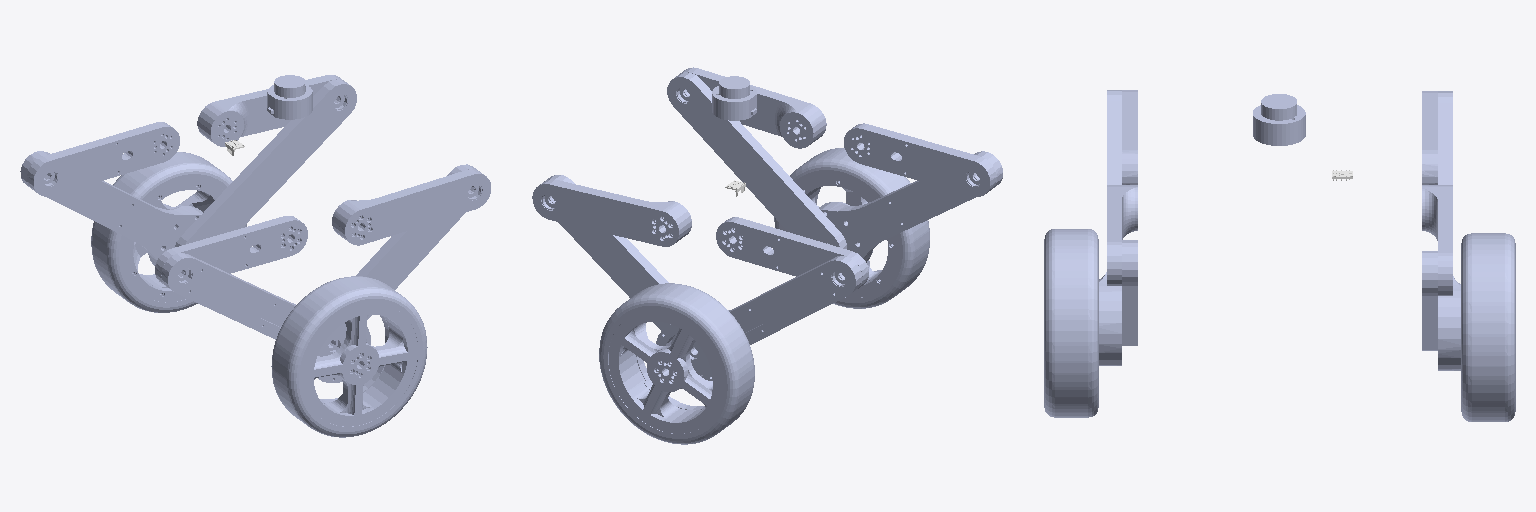
robot.urdf — wheel_legged_urdf_pkg:
<?xml version="1.0" encoding="utf-8"?>
<!-- This URDF was automatically created by SolidWorks to URDF Exporter! Originally created by [author] ([email redacted]) 
     Commit Version: 1.6.0-1-g15f4949  Build Version: 1.6.7594.29634
     For more information, please see http://wiki.ros.org/sw_urdf_exporter -->
<robot
  name="wheel_legged_urdf_pkg">
  <link
    name="base_link">
    <inertial>
      <origin
        xyz="0.00121782667412224 -0.000210352203166787 -2.21299226362964E-05"
        rpy="0 0 0" />
      <mass
        value="2.00185606218299" />
      <inertia
        ixx="0.00494176488313629"
        ixy="2.02076436576181E-06"
        ixz="-1.34594201707221E-05"
        iyy="0.00564170400699066"
        iyz="-3.68666172302085E-07"
        izz="0.00881398606635347" />
    </inertial>
    <visual>
      <origin
        xyz="0 0 0"
        rpy="0 0 0" />
      <geometry>
        <mesh
          filename="package://wheel_legged_urdf_pkg/meshes/base_link.STL" />
      </geometry>
      <material
        name="">
        <color
          rgba="0.792156862745098 0.819607843137255 0.933333333333333 1" />
      </material>
    </visual>
    <collision>
      <origin
        xyz="0 0 0"
        rpy="0 0 0" />
      <geometry>
        <mesh
          filename="package://wheel_legged_urdf_pkg/meshes/base_link.STL" />
      </geometry>
    </collision>
  </link>
  <link
    name="left_front_motor_link">
    <inertial>
      <origin
        xyz="0.0624436684240075 0.000619326059130704 0.0200324549537225"
        rpy="0 0 0" />
      <mass
        value="0.141618184762676" />
      <inertia
        ixx="3.01866212630707E-05"
        ixy="-4.06501419007613E-06"
        ixz="-2.12212302875267E-05"
        iyy="0.000434045739664063"
        iyz="-2.13539578979558E-07"
        izz="0.000450595261060971" />
    </inertial>
    <visual>
      <origin
        xyz="0 0 0"
        rpy="0 0 0" />
      <geometry>
        <mesh
          filename="package://wheel_legged_urdf_pkg/meshes/left_front_motor_link.STL" />
      </geometry>
      <material
        name="">
        <color
          rgba="0.796078431372549 0.823529411764706 0.937254901960784 1" />
      </material>
    </visual>
    <collision>
      <origin
        xyz="0 0 0"
        rpy="0 0 0" />
      <geometry>
        <mesh
          filename="package://wheel_legged_urdf_pkg/meshes/left_front_motor_link.STL" />
      </geometry>
    </collision>
  </link>
  <joint
    name="left_front_joint_link"
    type="revolute">
    <origin
      xyz="0.042498 0.1395 0.00013155"
      rpy="-1.5708 -0.0033107 0" />
    <parent
      link="base_link" />
    <child
      link="left_front_motor_link" />
    <axis
      xyz="0 0 -1" />
    <limit
      lower="-3.14"
      upper="3.14"
      effort="111"
      velocity="111" />
  </joint>
  <link
    name="left_l1_link">
    <inertial>
      <origin
        xyz="-0.095105462450709 0.0731775307867209 -0.0163"
        rpy="0 0 0" />
      <mass
        value="0.177912779401" />
      <inertia
        ixx="0.000418025769227047"
        ixy="0.000499776117636955"
        ixz="2.64951433434358E-19"
        iyy="0.000683016195362116"
        iyz="-2.12822073937659E-19"
        izz="0.00109442528532047" />
    </inertial>
    <visual>
      <origin
        xyz="0 0 0"
        rpy="0 0 0" />
      <geometry>
        <mesh
          filename="package://wheel_legged_urdf_pkg/meshes/left_l1_link.STL" />
      </geometry>
      <material
        name="">
        <color
          rgba="0.796078431372549 0.823529411764706 0.937254901960784 1" />
      </material>
    </visual>
    <collision>
      <origin
        xyz="0 0 0"
        rpy="0 0 0" />
      <geometry>
        <mesh
          filename="package://wheel_legged_urdf_pkg/meshes/left_l1_link.STL" />
      </geometry>
    </collision>
  </link>
  <joint
    name="left_l1_joint_link"
    type="revolute">
    <origin
      xyz="0.14999 0.0015005 0.0238"
      rpy="0 0 0" />
    <parent
      link="left_front_motor_link" />
    <child
      link="left_l1_link" />
    <axis
      xyz="0 0 -1" />
    <limit
      lower="-3.14"
      upper="3.14"
      effort="111"
      velocity="111" />
  </joint>
  <link
    name="left_back_motor_link">
    <inertial>
      <origin
        xyz="-0.0749796058107964 0.0036928214728846 0.00747310925542913"
        rpy="0 0 0" />
      <mass
        value="0.115659747495916" />
      <inertia
        ixx="2.26464431379227E-05"
        ixy="1.47051792432662E-05"
        ixz="2.33204786093751E-07"
        iyy="0.000319765274780509"
        iyz="-1.1513773440399E-08"
        izz="0.000338116683794751" />
    </inertial>
    <visual>
      <origin
        xyz="0 0 0"
        rpy="0 0 0" />
      <geometry>
        <mesh
          filename="package://wheel_legged_urdf_pkg/meshes/left_back_motor_link.STL" />
      </geometry>
      <material
        name="">
        <color
          rgba="0.796078431372549 0.823529411764706 0.937254901960784 1" />
      </material>
    </visual>
    <collision>
      <origin
        xyz="0 0 0"
        rpy="0 0 0" />
      <geometry>
        <mesh
          filename="package://wheel_legged_urdf_pkg/meshes/left_back_motor_link.STL" />
      </geometry>
    </collision>
  </link>
  <joint
    name="left_back_joint_link"
    type="revolute">
    <origin
      xyz="-0.042501 0.1395 -0.00014986"
      rpy="-1.5708 -0.0033107 0" />
    <parent
      link="base_link" />
    <child
      link="left_back_motor_link" />
    <axis
      xyz="0 0 -1" />
    <limit
      lower="-3.14"
      upper="3.14"
      effort="111"
      velocity="111" />
  </joint>
  <link
    name="left_l4_link">
    <inertial>
      <origin
        xyz="0.128060879717462 0.0924384050013035 0.0178378642085842"
        rpy="0 0 0" />
      <mass
        value="0.248961638545411" />
      <inertia
        ixx="0.000729426860709992"
        ixy="-0.000882041567120079"
        ixz="-2.87270453908768E-05"
        iyy="0.00131469091952802"
        iyz="-2.07358301501036E-05"
        izz="0.00202550485596196" />
    </inertial>
    <visual>
      <origin
        xyz="0 0 0"
        rpy="0 0 0" />
      <geometry>
        <mesh
          filename="package://wheel_legged_urdf_pkg/meshes/left_l4_link.STL" />
      </geometry>
      <material
        name="">
        <color
          rgba="0.796078431372549 0.823529411764706 0.937254901960784 1" />
      </material>
    </visual>
    <collision>
      <origin
        xyz="0 0 0"
        rpy="0 0 0" />
      <geometry>
        <mesh
          filename="package://wheel_legged_urdf_pkg/meshes/left_l4_link.STL" />
      </geometry>
    </collision>
  </link>
  <joint
    name="left_l4_joint_link"
    type="revolute">
    <origin
      xyz="-0.14982 0.0073876 0.0062"
      rpy="0 0 0" />
    <parent
      link="left_back_motor_link" />
    <child
      link="left_l4_link" />
    <axis
      xyz="0 0 1" />
    <limit
      lower="-3.14"
      upper="3.14"
      effort="111"
      velocity="111" />
  </joint>
  <link
    name="left_l3_link">
    <inertial>
      <origin
        xyz="-0.000243308150557599 0.000117251658979897 0.0403173391634845"
        rpy="0 0 0" />
      <mass
        value="0.115219399015165" />
      <inertia
        ixx="4.94098181788803E-05"
        ixy="6.17843266765886E-07"
        ixz="-2.64375001717254E-08"
        iyy="4.89676896049995E-05"
        iyz="8.42629320502447E-08"
        izz="8.66983692952939E-05" />
    </inertial>
    <visual>
      <origin
        xyz="0 0 0"
        rpy="0 0 0" />
      <geometry>
        <mesh
          filename="package://wheel_legged_urdf_pkg/meshes/left_l3_link.STL" />
      </geometry>
      <material
        name="">
        <color
          rgba="0.792156862745098 0.819607843137255 0.933333333333333 1" />
      </material>
    </visual>
    <collision>
      <origin
        xyz="0 0 0"
        rpy="0 0 0" />
      <geometry>
        <mesh
          filename="package://wheel_legged_urdf_pkg/meshes/left_l3_link.STL" />
      </geometry>
    </collision>
  </link>
  <joint
    name="left_l3_joint_link"
    type="fixed">
    <origin
      xyz="0.1946 0.14047 0.0088"
      rpy="0 0 3.1416" />
    <parent
      link="left_l4_link" />
    <child
      link="left_l3_link" />
    <axis
      xyz="0 0 0" />
    <limit
      lower="-3.14"
      upper="3.14"
      effort="111"
      velocity="111" />
  </joint>
  <link
    name="left_wheel_motor_link">
    <inertial>
      <origin
        xyz="1.13167687540439E-07 1.25858476307528E-07 -0.00499719779399502"
        rpy="0 0 0" />
      <mass
        value="0.842051413621127" />
      <inertia
        ixx="0.00251019461435954"
        ixy="6.84459368766154E-08"
        ixz="-1.1260888209865E-09"
        iyy="0.00251018902018574"
        iyz="-1.29638291833447E-09"
        izz="0.00474412594811298" />
    </inertial>
    <visual>
      <origin
        xyz="0 0 0"
        rpy="0 0 0" />
      <geometry>
        <mesh
          filename="package://wheel_legged_urdf_pkg/meshes/left_wheel_motor_link.STL" />
      </geometry>
      <material
        name="">
        <color
          rgba="0.792156862745098 0.819607843137255 0.933333333333333 1" />
      </material>
    </visual>
    <collision>
      <origin
        xyz="0 0 0"
        rpy="0 0 0" />
      <geometry>
        <mesh
          filename="package://wheel_legged_urdf_pkg/meshes/left_wheel_motor_link.STL" />
      </geometry>
    </collision>
  </link>
  <joint
    name="left_wheel_joint_link"
    type="continuous">
    <origin
      xyz="0 0 0.0565"
      rpy="0 0 3.1416" />
    <parent
      link="left_l3_link" />
    <child
      link="left_wheel_motor_link" />
    <axis
      xyz="0 0 -1" />
    <limit
      lower="0"
      upper="0"
      effort="111"
      velocity="111" />
  </joint>
  <link
    name="right_front_motor_link">
    <inertial>
      <origin
        xyz="0.0623057259191661 0.00415660632329509 0.0200324549608647"
        rpy="0 0 0" />
      <mass
        value="0.141618184759225" />
      <inertia
        ixx="3.19275897950573E-05"
        ixy="-2.67693748327935E-05"
        ixz="-2.11754471522572E-05"
        iyy="0.000432304770765368"
        iyz="-1.40948581726657E-06"
        izz="0.000450595260936554" />
    </inertial>
    <visual>
      <origin
        xyz="0 0 0"
        rpy="0 0 0" />
      <geometry>
        <mesh
          filename="package://wheel_legged_urdf_pkg/meshes/right_front_motor_link.STL" />
      </geometry>
      <material
        name="">
        <color
          rgba="0.796078431372549 0.823529411764706 0.937254901960784 1" />
      </material>
    </visual>
    <collision>
      <origin
        xyz="0 0 0"
        rpy="0 0 0" />
      <geometry>
        <mesh
          filename="package://wheel_legged_urdf_pkg/meshes/right_front_motor_link.STL" />
      </geometry>
    </collision>
  </link>
  <joint
    name="right_front_joint_link"
    type="revolute">
    <origin
      xyz="0.042501 -0.1395 0.00013156"
      rpy="1.5708 0 0" />
    <parent
      link="base_link" />
    <child
      link="right_front_motor_link" />
    <axis
      xyz="0 0 -1" />
    <limit
      lower="-3.14"
      upper="3.14"
      effort="111"
      velocity="111" />
  </joint>
  <link
    name="right_l1_link">
    <inertial>
      <origin
        xyz="-0.0932955290225116 -0.0754714798080031 -0.0162999999999999"
        rpy="0 0 0" />
      <mass
        value="0.177912779401" />
      <inertia
        ixx="0.000442512909634909"
        ixy="-0.000505633667279406"
        ixz="1.44898630941009E-19"
        iyy="0.000658529054954254"
        iyz="1.11471792933153E-19"
        izz="0.00109442528532047" />
    </inertial>
    <visual>
      <origin
        xyz="0 0 0"
        rpy="0 0 0" />
      <geometry>
        <mesh
          filename="package://wheel_legged_urdf_pkg/meshes/right_l1_link.STL" />
      </geometry>
      <material
        name="">
        <color
          rgba="0.796078431372549 0.823529411764706 0.937254901960784 1" />
      </material>
    </visual>
    <collision>
      <origin
        xyz="0 0 0"
        rpy="0 0 0" />
      <geometry>
        <mesh
          filename="package://wheel_legged_urdf_pkg/meshes/right_l1_link.STL" />
      </geometry>
    </collision>
  </link>
  <joint
    name="right_l1_joint_link"
    type="revolute">
    <origin
      xyz="0.14967 0.0099718 0.0238"
      rpy="0 0 0.0033107" />
    <parent
      link="right_front_motor_link" />
    <child
      link="right_l1_link" />
    <axis
      xyz="0 0 -1" />
    <limit
      lower="-3.14"
      upper="3.14"
      effort="111"
      velocity="111" />
  </joint>
  <link
    name="right_back_motor_link">
    <inertial>
      <origin
        xyz="-0.075017236320334 -0.00291294758678277 0.00747310925542902"
        rpy="0 0 0" />
      <mass
        value="0.115659747495916" />
      <inertia
        ixx="2.23727688233546E-05"
        ixy="-1.16126485502262E-05"
        ixz="2.33311901434062E-07"
        iyy="0.000320038949095077"
        iyz="9.08822782981713E-09"
        izz="0.000338116683794751" />
    </inertial>
    <visual>
      <origin
        xyz="0 0 0"
        rpy="0 0 0" />
      <geometry>
        <mesh
          filename="package://wheel_legged_urdf_pkg/meshes/right_back_motor_link.STL" />
      </geometry>
      <material
        name="">
        <color
          rgba="0.796078431372549 0.823529411764706 0.937254901960784 1" />
      </material>
    </visual>
    <collision>
      <origin
        xyz="0 0 0"
        rpy="0 0 0" />
      <geometry>
        <mesh
          filename="package://wheel_legged_urdf_pkg/meshes/right_back_motor_link.STL" />
      </geometry>
    </collision>
  </link>
  <joint
    name="right_back_joint_link"
    type="revolute">
    <origin
      xyz="-0.042498 -0.1395 -0.00014985"
      rpy="1.5708 -0.0033107 0" />
    <parent
      link="base_link" />
    <child
      link="right_back_motor_link" />
    <axis
      xyz="0 0 -1" />
    <limit
      lower="-3.14"
      upper="3.14"
      effort="111"
      velocity="111" />
  </joint>
  <link
    name="right_l4_link">
    <inertial>
      <origin
        xyz="0.130296403284804 -0.0892597043985118 0.0178378639085093"
        rpy="0 0 0" />
      <mass
        value="0.24896163452195" />
      <inertia
        ixx="0.000686392557995977"
        ixy="0.000866578875931979"
        ixz="-2.92282808341042E-05"
        iyy="0.00135772521521225"
        iyz="2.00231201554777E-05"
        izz="0.00202550485005715" />
    </inertial>
    <visual>
      <origin
        xyz="0 0 0"
        rpy="0 0 0" />
      <geometry>
        <mesh
          filename="package://wheel_legged_urdf_pkg/meshes/right_l4_link.STL" />
      </geometry>
      <material
        name="">
        <color
          rgba="0.796078431372549 0.823529411764706 0.937254901960784 1" />
      </material>
    </visual>
    <collision>
      <origin
        xyz="0 0 0"
        rpy="0 0 0" />
      <geometry>
        <mesh
          filename="package://wheel_legged_urdf_pkg/meshes/right_l4_link.STL" />
      </geometry>
    </collision>
  </link>
  <joint
    name="right_l4_joint_link"
    type="revolute">
    <origin
      xyz="-0.14989 -0.0058294 0.0062"
      rpy="0 0 0" />
    <parent
      link="right_back_motor_link" />
    <child
      link="right_l4_link" />
    <axis
      xyz="0 0 1" />
    <limit
      lower="-3.14"
      upper="3.14"
      effort="111"
      velocity="111" />
  </joint>
  <link
    name="right_l3_link">
    <inertial>
      <origin
        xyz="-2.80713764217733E-05 -0.000268623950909944 0.0403173391022381"
        rpy="0 0 0" />
      <mass
        value="0.115219399567085" />
      <inertia
        ixx="4.94114719513777E-05"
        ixy="-6.17249628353162E-07"
        ixz="-7.0359614159779E-08"
        iyy="4.89660363029196E-05"
        iyz="-5.33732793669032E-08"
        izz="8.66983696437399E-05" />
    </inertial>
    <visual>
      <origin
        xyz="0 0 0"
        rpy="0 0 0" />
      <geometry>
        <mesh
          filename="package://wheel_legged_urdf_pkg/meshes/right_l3_link.STL" />
      </geometry>
      <material
        name="">
        <color
          rgba="0.792156862745098 0.819607843137255 0.933333333333333 1" />
      </material>
    </visual>
    <collision>
      <origin
        xyz="0 0 0"
        rpy="0 0 0" />
      <geometry>
        <mesh
          filename="package://wheel_legged_urdf_pkg/meshes/right_l3_link.STL" />
      </geometry>
    </collision>
  </link>
  <joint
    name="right_l3_joint_link"
    type="fixed">
    <origin
      xyz="0.198 -0.13564 0.0088"
      rpy="0 0 0" />
    <parent
      link="right_l4_link" />
    <child
      link="right_l3_link" />
    <axis
      xyz="0 0 0" />
    <limit
      lower="-3.14"
      upper="3.14"
      effort="111"
      velocity="111" />
  </joint>
  <link
    name="right_wheel_motor_link">
    <inertial>
      <origin
        xyz="-6.16438811410977E-08 -1.57630152236576E-07 -0.00499719843039104"
        rpy="0 0 0" />
      <mass
        value="0.842051685465564" />
      <inertia
        ixx="0.002510149306242"
        ixy="5.33391652794576E-08"
        ixz="5.97908481403005E-10"
        iyy="0.0025102352737572"
        iyz="1.60971688347882E-09"
        izz="0.00474412701360746" />
    </inertial>
    <visual>
      <origin
        xyz="0 0 0"
        rpy="0 0 0" />
      <geometry>
        <mesh
          filename="package://wheel_legged_urdf_pkg/meshes/right_wheel_motor_link.STL" />
      </geometry>
      <material
        name="">
        <color
          rgba="0.792156862745098 0.819607843137255 0.933333333333333 1" />
      </material>
    </visual>
    <collision>
      <origin
        xyz="0 0 0"
        rpy="0 0 0" />
      <geometry>
        <mesh
          filename="package://wheel_legged_urdf_pkg/meshes/right_wheel_motor_link.STL" />
      </geometry>
    </collision>
  </link>
  <joint
    name="right_wheel_joint_link"
    type="continuous">
    <origin
      xyz="0 0 0.0565"
      rpy="0 0 0" />
    <parent
      link="right_l3_link" />
    <child
      link="right_wheel_motor_link" />
    <axis
      xyz="0 0 -1" />
    <limit
      lower="0"
      upper="0"
      effort="111"
      velocity="111" />
  </joint>
  <link
    name="imu_link">
    <inertial>
      <origin
        xyz="-0.00295011190315089 6.01878603506481E-05 -0.0022678069753778"
        rpy="0 0 0" />
      <mass
        value="0.0006342289369769" />
      <inertia
        ixx="1.61792914987704E-08"
        ixy="-1.94879474217619E-16"
        ixz="2.82847847582473E-11"
        iyy="9.69970107461154E-09"
        iyz="-1.20746251134688E-15"
        izz="2.47220721297651E-08" />
    </inertial>
    <visual>
      <origin
        xyz="0 0 0"
        rpy="0 0 0" />
      <geometry>
        <mesh
          filename="package://wheel_legged_urdf_pkg/meshes/imu_link.STL" />
      </geometry>
      <material
        name="">
        <color
          rgba="1 1 1 1" />
      </material>
    </visual>
    <collision>
      <origin
        xyz="0 0 0"
        rpy="0 0 0" />
      <geometry>
        <mesh
          filename="package://wheel_legged_urdf_pkg/meshes/imu_link.STL" />
      </geometry>
    </collision>
  </link>
  <joint
    name="imu_joint_link"
    type="fixed">
    <origin
      xyz="0.0086888 0.0615 0.021391"
      rpy="0 -0.0033107 0" />
    <parent
      link="base_link" />
    <child
      link="imu_link" />
    <axis
      xyz="0 0 0" />
    <limit
      lower="-3.14"
      upper="3.14"
      effort="111"
      velocity="111" />
  </joint>
  <link
    name="laser">
    <inertial>
      <origin
        xyz="-0.000295667186511292 2.02745806254789E-17 -0.00821757116891281"
        rpy="0 0 0" />
      <mass
        value="0.0619661956356509" />
      <inertia
        ixx="1.51239273004584E-05"
        ixy="1.16746609500923E-07"
        ixz="3.94028572670957E-09"
        iyy="1.49535540724283E-05"
        iyz="-2.27877441163121E-22"
        izz="1.86073781537633E-05" />
    </inertial>
    <visual>
      <origin
        xyz="0 0 0"
        rpy="0 0 0" />
      <geometry>
        <mesh
          filename="package://wheel_legged_urdf_pkg/meshes/lidar_link.STL" />
      </geometry>
      <material
        name="">
        <color
          rgba="0.796078431372549 0.823529411764706 0.937254901960784 1" />
      </material>
    </visual>
    <collision>
      <origin
        xyz="0 0 0"
        rpy="0 0 0" />
      <geometry>
        <mesh
          filename="package://wheel_legged_urdf_pkg/meshes/lidar_link.STL" />
      </geometry>
    </collision>
  </link>
  <joint
    name="lidar_joint_link"
    type="fixed">
    <origin
      xyz="0.0450664766561181 -0.000722222222221321 0.103849771542335"
      rpy="0 -0.00331072414141279 0" />
    <parent
      link="base_link" />
    <child
      link="laser" />
    <axis
      xyz="0 0 0" />
    <limit
      lower="-3.14"
      upper="3.14"
      effort="111"
      velocity="111" />
  </joint>
</robot>

--- What the picture shows (computed from the rendered views, not written in the file) ---
The picture shows the robot from 3 angles, left to right: view 1: azimuth 30°, elevation 25°; view 2: azimuth 150°, elevation 25°; view 3: azimuth 270°, elevation 25°; orthographic projection.
Robot: wheel_legged_urdf_pkg — 15 links, 14 joints (8 revolute, 2 continuous, 4 fixed); root link base_link; default pose: every joint at zero.
Links seen in each view (by area): view 1: right_wheel_motor_link, left_wheel_motor_link, left_l1_link, right_front_motor_link, left_back_motor_link, right_l4_link, left_l4_link, right_back_motor_link, left_front_motor_link, right_l1_link, laser; view 2: left_wheel_motor_link, right_l1_link, right_wheel_motor_link, left_front_motor_link, left_l4_link, right_back_motor_link, right_l4_link, left_back_motor_link, right_front_motor_link, left_l1_link, laser; view 3: left_wheel_motor_link, right_wheel_motor_link, right_l4_link, left_l4_link, left_front_motor_link, laser, right_front_motor_link, right_l1_link, left_l1_link, right_back_motor_link, left_back_motor_link.
Link boxes in pixels (bbox=[...]): right_wheel_motor_link: bbox=[271, 276, 427, 437]; left_wheel_motor_link: bbox=[91, 152, 246, 312]; left_l1_link: bbox=[175, 79, 356, 246]; right_front_motor_link: bbox=[332, 169, 490, 245]; left_back_motor_link: bbox=[27, 122, 179, 196]; right_l4_link: bbox=[161, 253, 370, 382]; left_l4_link: bbox=[20, 151, 202, 265]; right_back_motor_link: bbox=[155, 216, 307, 286]; left_front_motor_link: bbox=[197, 75, 343, 146]; right_l1_link: bbox=[329, 164, 476, 343]; laser: bbox=[267, 75, 312, 119]; left_wheel_motor_link: bbox=[599, 283, 754, 444]; right_l1_link: bbox=[667, 72, 846, 248]; right_wheel_motor_link: bbox=[774, 148, 929, 308]; left_front_motor_link: bbox=[532, 179, 691, 246]; left_l4_link: bbox=[656, 256, 861, 380]; right_back_motor_link: bbox=[844, 123, 996, 196]; right_l4_link: bbox=[819, 151, 1002, 262]; left_back_motor_link: bbox=[716, 217, 868, 288]; right_front_motor_link: bbox=[680, 67, 826, 148]; left_l1_link: bbox=[544, 175, 697, 351]; laser: bbox=[712, 76, 756, 120]; left_wheel_motor_link: bbox=[1461, 233, 1515, 421]; right_wheel_motor_link: bbox=[1044, 229, 1098, 417]; right_l4_link: bbox=[1099, 90, 1121, 365]; left_l4_link: bbox=[1438, 91, 1460, 370]; left_front_motor_link: bbox=[1422, 185, 1452, 295]; laser: bbox=[1253, 94, 1305, 145]; right_front_motor_link: bbox=[1107, 185, 1137, 285]; right_l1_link: bbox=[1122, 240, 1137, 345]; left_l1_link: bbox=[1422, 251, 1437, 350]; right_back_motor_link: bbox=[1122, 90, 1137, 184]; left_back_motor_link: bbox=[1422, 91, 1437, 184].
Size in the robot's own frame: 0.4296 by 0.4616 by 0.3566 metres.
Meshes: 15 distinct files referenced, 12 mesh visuals loaded (12 binary STL); not drawn: 3 (reference not matched to a file when rendering).